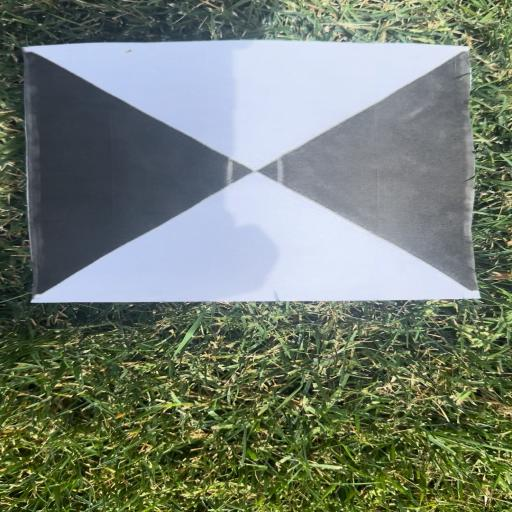target: (25, 46, 482, 298)
